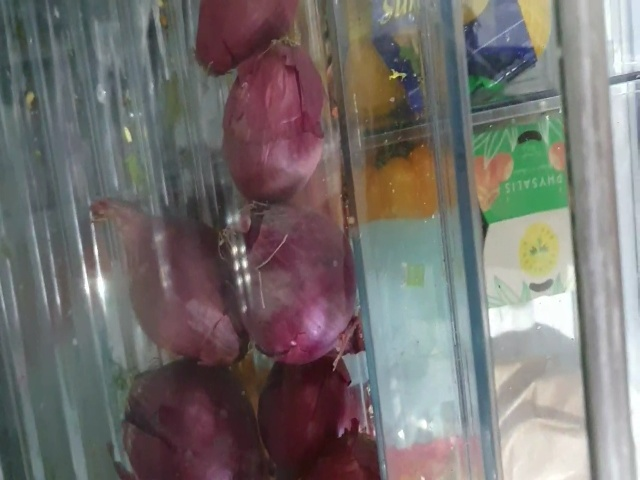red_onion: (90, 195, 234, 366), (224, 203, 367, 359), (114, 369, 257, 480), (232, 44, 327, 198), (263, 361, 356, 465), (195, 1, 294, 66)
